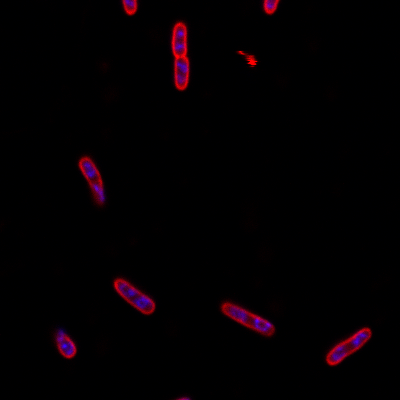Control: (221, 302, 274, 337), (325, 327, 371, 366), (112, 278, 155, 315), (171, 21, 190, 92)
Oblique: (77, 156, 106, 205), (52, 328, 77, 360)
